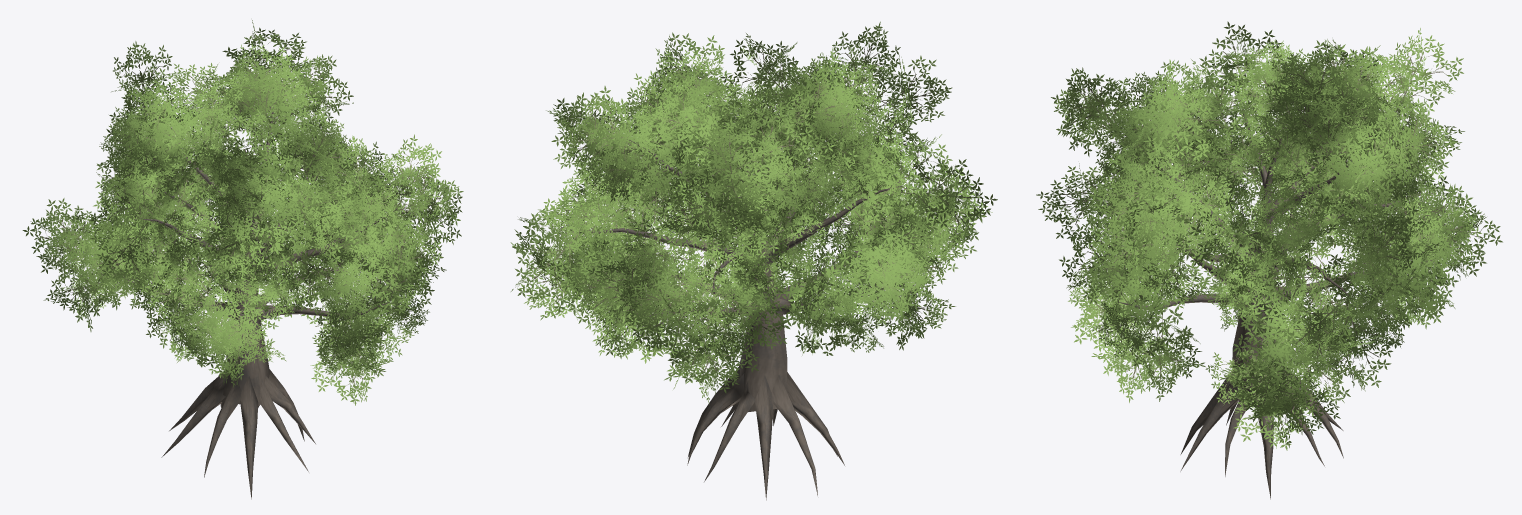
Rendered from tree_Oak_LOD1.fbx.
3 views of the same model, side by side, from view 1: azimuth 30°, elevation 25°; view 2: azimuth 150°, elevation 25°; view 3: azimuth 270°, elevation 25° (orthographic). The views are drawn at different scales.
Parts seen in each view (by area): view 1: Oak_LOD1; view 2: Oak_LOD1; view 3: Oak_LOD1.
Part boxes in pixels (x1,y1,x2,y2): Oak_LOD1: (22,20,463,499); Oak_LOD1: (510,21,997,500); Oak_LOD1: (1036,21,1502,499).
Bounding box in the file's own units: 1951 × 1898 × 1855.
